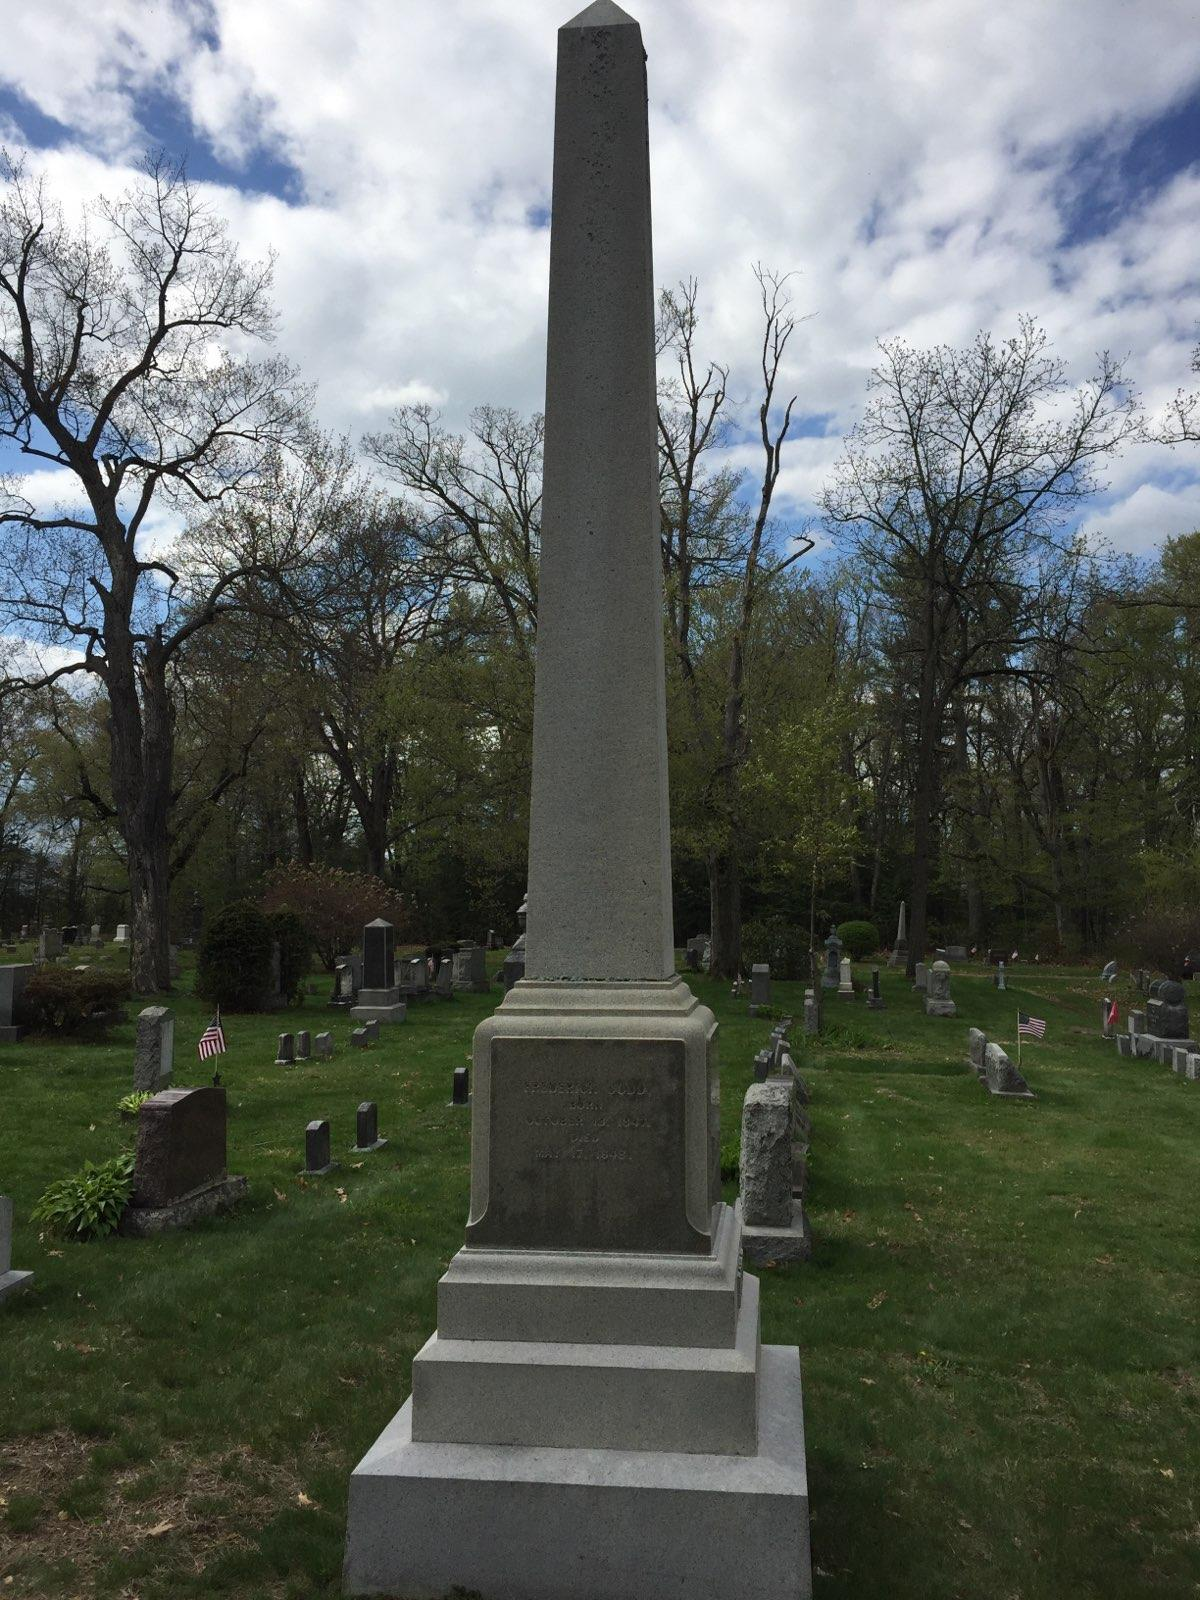obelisk: (416, 0, 756, 1449)
